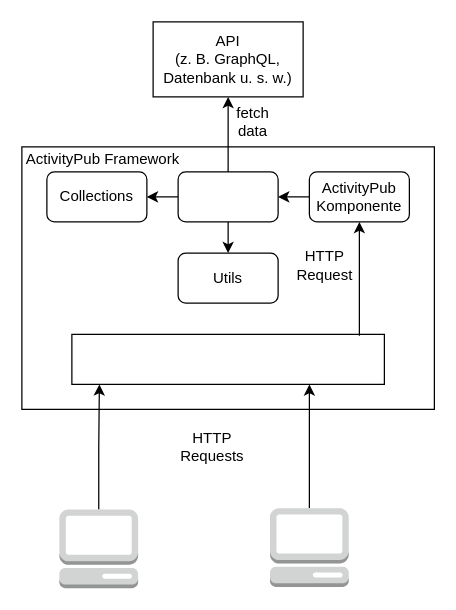
The diagram is 456 pixels wide and 610 high, and some of its shapes have lost their labels. The shapes that lost their labels are listed below. From the top down, each one's centre as x and y in pixels, then its label:
At point 227,196: "IDataSource".
At point 227,358: "Express Web Server".
